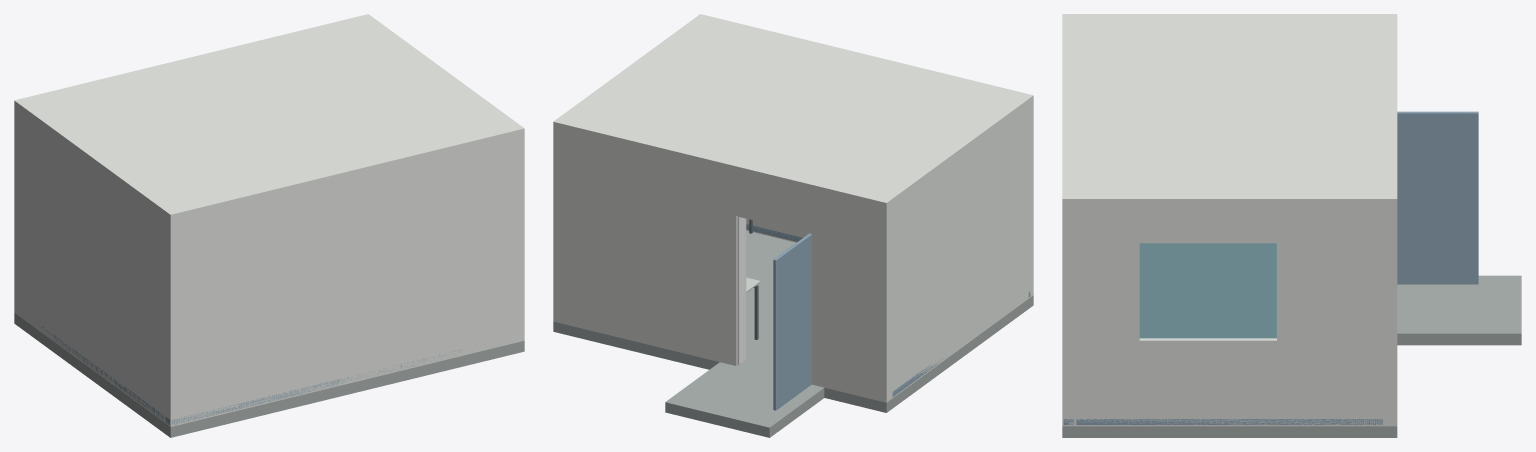
File: Physics.fbx
3 renders of one model, left to right at view 1: azimuth 30°, elevation 25°; view 2: azimuth 150°, elevation 25°; view 3: azimuth 270°, elevation 25°, orthographic. The views are drawn at different scales.
Visible parts, largest first — view 1: Wall-north, Ceiling, Wall-west, Floor, Wall-south, Coved-base-north, Coved-base-west; view 2: Wall-south, Ceiling, Wall-west, Floor, Entry-landing, Door-open, Wall-north, Door-jamb.001; view 3: Ceiling, Wall-east, Door-open, Window-glazing, Entry-landing, Floor, Wall-south, Wall-north, Coved-base-east.
Boxes of the visible parts, x1,y1,x2,y2 form: Wall-north: (164, 137, 524, 426); Ceiling: (14, 14, 524, 223); Wall-west: (20, 114, 164, 422); Floor: (14, 313, 524, 437); Wall-south: (14, 109, 20, 316); Coved-base-north: (165, 344, 484, 425); Coved-base-west: (41, 327, 163, 420); Wall-south: (553, 130, 892, 402); Ceiling: (553, 14, 1033, 211); Wall-west: (892, 108, 1027, 398); Floor: (553, 230, 1033, 412); Entry-landing: (665, 362, 824, 437); Door-open: (773, 233, 811, 410); Wall-north: (746, 104, 1033, 298); Door-jamb.001: (737, 216, 746, 365); Ceiling: (1062, 14, 1397, 208); Wall-east: (1075, 208, 1384, 426); Door-open: (1397, 111, 1478, 284); Window-glazing: (1139, 243, 1276, 338); Entry-landing: (1397, 275, 1521, 345); Floor: (1062, 426, 1397, 437); Wall-south: (1384, 208, 1397, 426); Wall-north: (1062, 208, 1075, 426); Coved-base-east: (1076, 419, 1382, 424).
Bounding box in the file's own units: 510 × 307 × 535.
